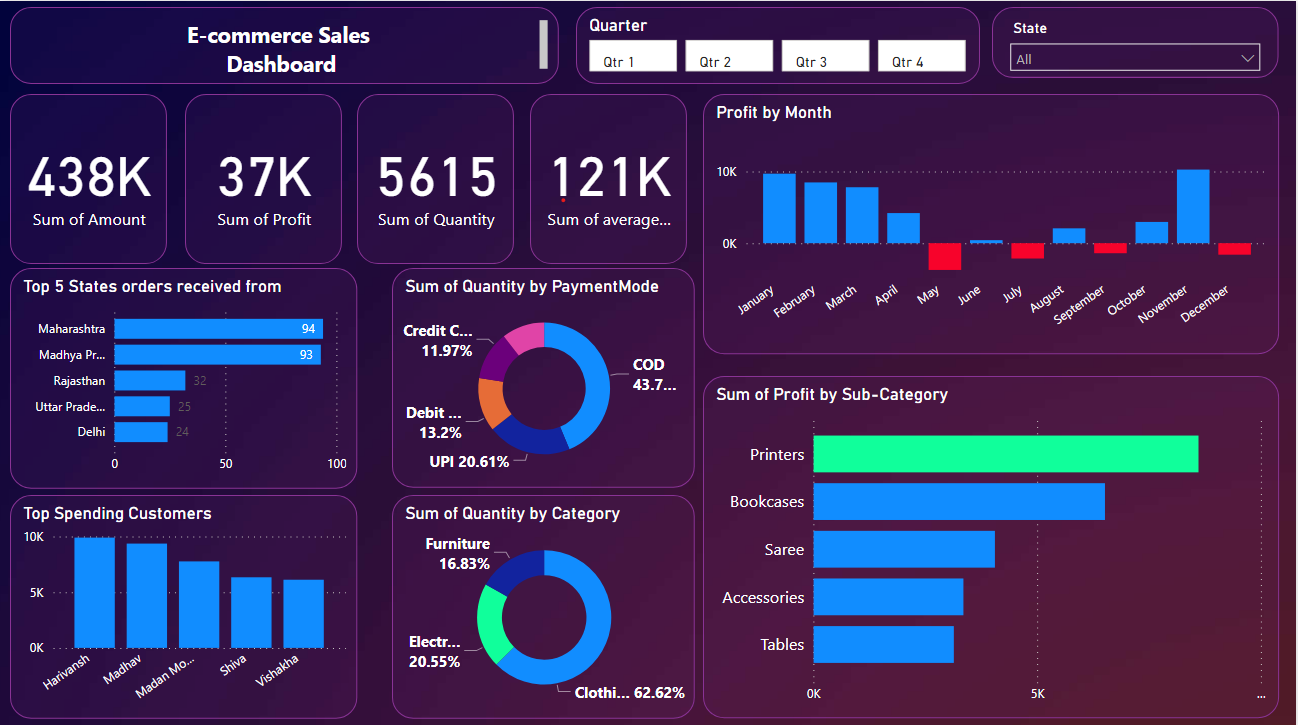

The dashboard page shown, as its layout file describes it:
{"tool":"powerbi","page":{"name":"Page 1","canvas":[1280,720],"ordinal":0},"visuals":[{"type":"textbox","box":[9.7,5.8,541.8,75.9],"z":0},{"type":"columnChart","title":" Profit by Month","fields":{"Category":["Orders.Order Date.Variation.Date Hierarchy.Month"],"Y":["Details.Profit"]},"box":[694.5,91.4,569,256.8],"z":1000},{"type":"barChart","fields":{"Category":["Details.Sub-Category"],"Y":["Details.Profit"]},"box":[694.5,370.6,569,338.5],"z":2000},{"type":"donutChart","fields":{"Category":["Details.Category"],"Y":["Details.Quantity"]},"box":[387.1,488.3,298.6,220.8],"z":3000},{"type":"donutChart","fields":{"Y":["Details.Quantity"],"Category":["Details.PaymentMode"]},"box":[387.1,263.6,298.6,216.9],"z":4000},{"type":"card","fields":{"Values":["Details.Amount"]},"box":[9.7,91.4,154.7,168.3],"z":5000},{"type":"card","fields":{"Values":["Details.Quantity"]},"box":[353.1,91.4,154.7,168.3],"z":6000},{"type":"card","fields":{"Values":["Details.Profit"]},"box":[182.9,91.4,154.7,168.3],"z":7000},{"type":"card","fields":{"Values":["Details.averageoredervalue"]},"box":[523.3,91.4,154.7,168.3],"z":8000},{"type":"barChart","title":"Top  5 States orders received from","fields":{"Category":["Orders.State"],"Y":["Orders.CustomerName"]},"box":[9.7,263.6,343.3,217.9],"z":9000},{"type":"columnChart","title":"Top Spending Customers","fields":{"Y":["Details.Amount"],"Category":["Orders.CustomerName"]},"box":[10,488,343,221],"z":10000},{"type":"advancedSlicerVisual","fields":{"Values":["Orders.Order Date.Variation.Date Hierarchy.Quarter"]},"box":[569,5.8,398.8,75.9],"z":11000},{"type":"slicer","title":"Select by","fields":{"Values":["Orders.State"]},"box":[979.8,5.9,283.5,70.1],"z":12000}]}

Visuals, with their boxes in screenshot pixels (x1, y1, x2, y2), scaled from the page's 1280x720 canvas onto the 1298x725 screenshot:
textbox: region(10, 6, 559, 82)
" Profit by Month" columnChart: region(704, 92, 1281, 351)
barChart - Details.Sub-Category x Details.Profit: region(704, 373, 1281, 714)
donutChart - Details.Category x Details.Quantity: region(393, 492, 695, 714)
donutChart - Details.Quantity x Details.PaymentMode: region(393, 265, 695, 484)
card - Details.Amount: region(10, 92, 167, 262)
card - Details.Quantity: region(358, 92, 515, 262)
card - Details.Profit: region(185, 92, 342, 262)
card - Details.averageoredervalue: region(531, 92, 688, 262)
"Top  5 States orders received from" barChart: region(10, 265, 358, 485)
"Top Spending Customers" columnChart: region(10, 491, 358, 714)
advancedSlicerVisual - Orders.Order Date.Variation.Date Hierarchy.Quarter: region(577, 6, 981, 82)
"Select by" slicer: region(994, 6, 1281, 77)
